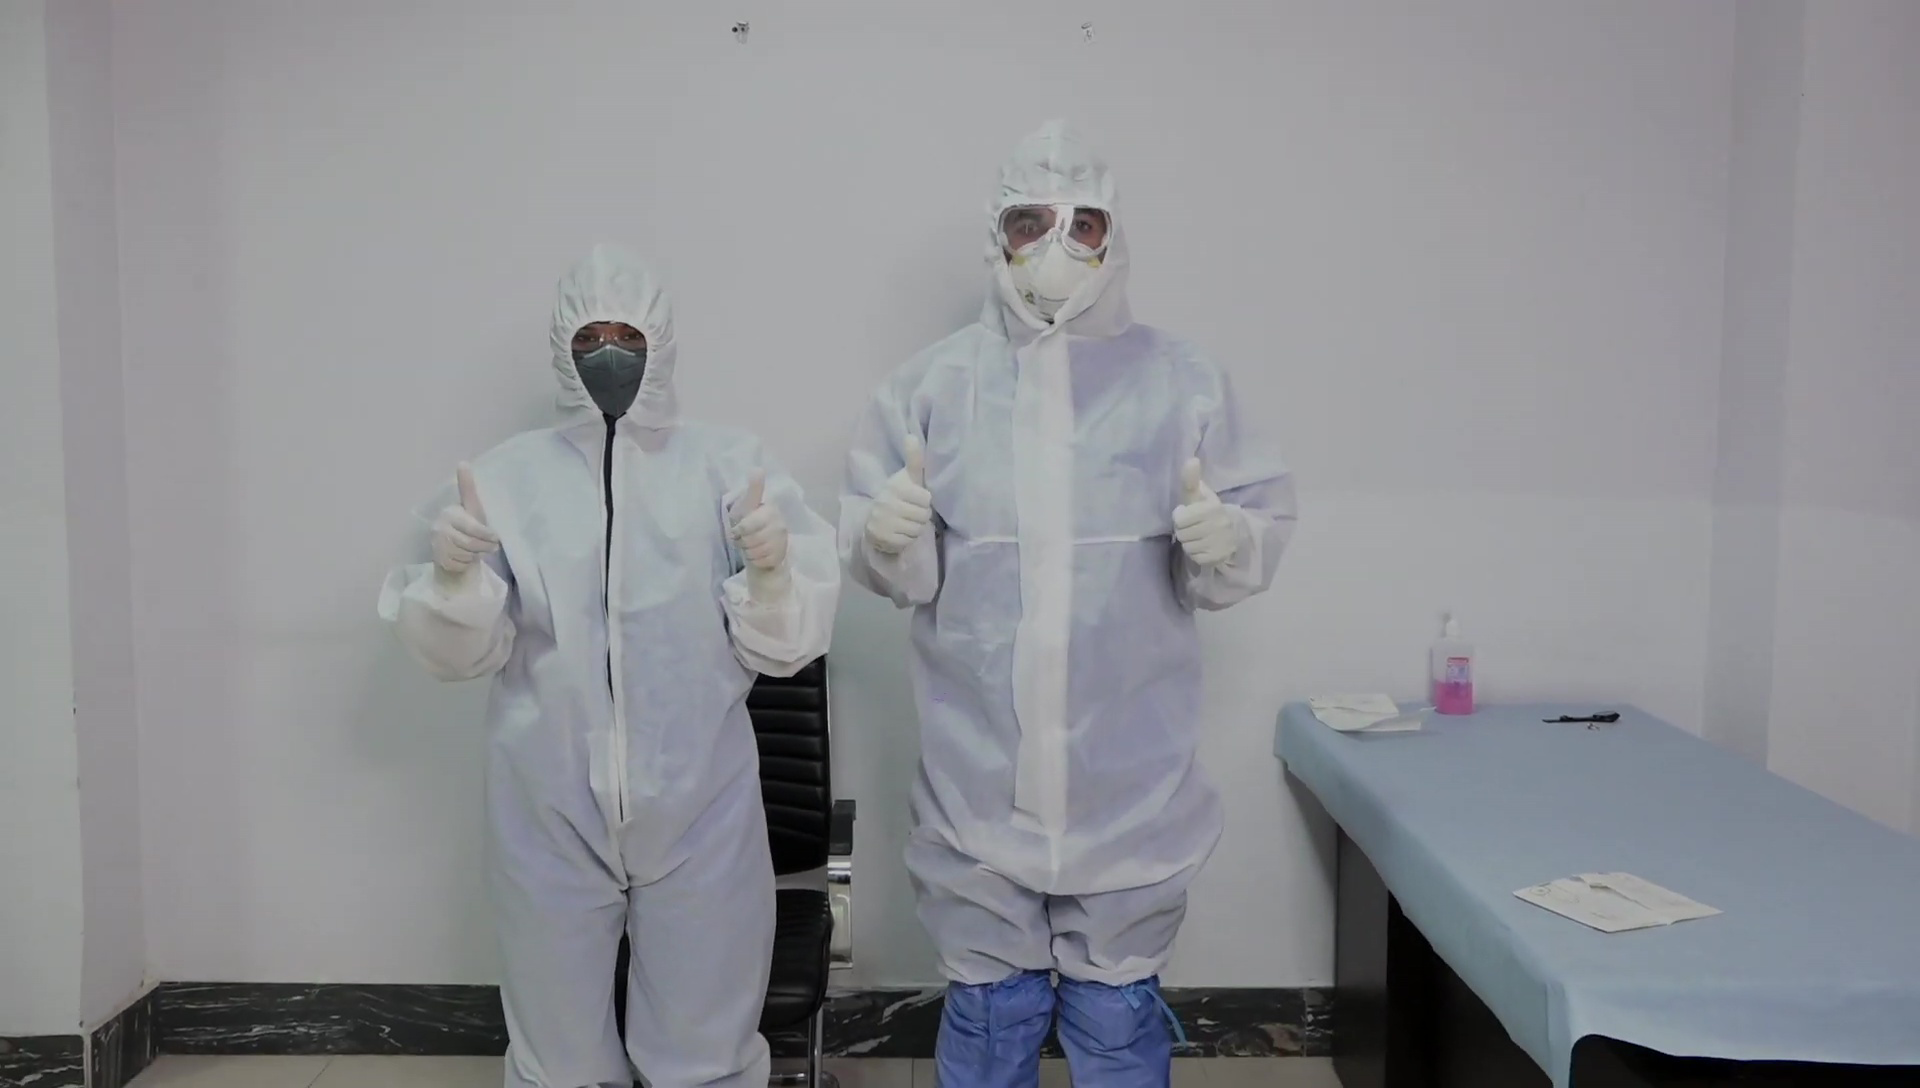Coverall: (835, 122, 1298, 1086), (376, 233, 842, 1086)
Gloves: (421, 460, 503, 585), (865, 433, 938, 560), (1167, 455, 1246, 567), (728, 467, 791, 574)
Goggles: (991, 190, 1115, 264)
with_mask: (1009, 233, 1103, 323), (574, 342, 647, 422)
